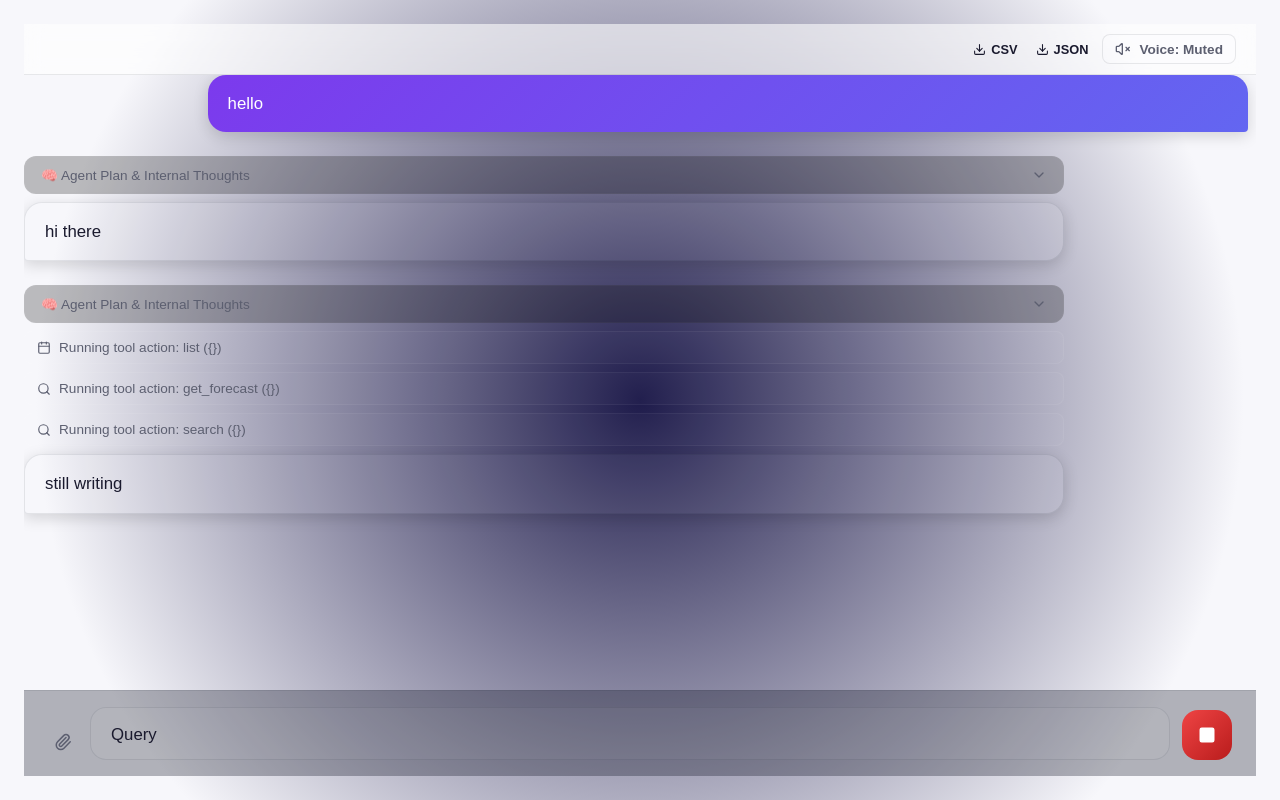
Test case: ChatPane Component Tests › renders streaming state with tool logs
# Click thoughts header to expand them since thoughts start collapsed
Click the 2nd text "🧠 Agent Plan & Internal Thoughts" at point(145, 304), box [41,296,250,312]
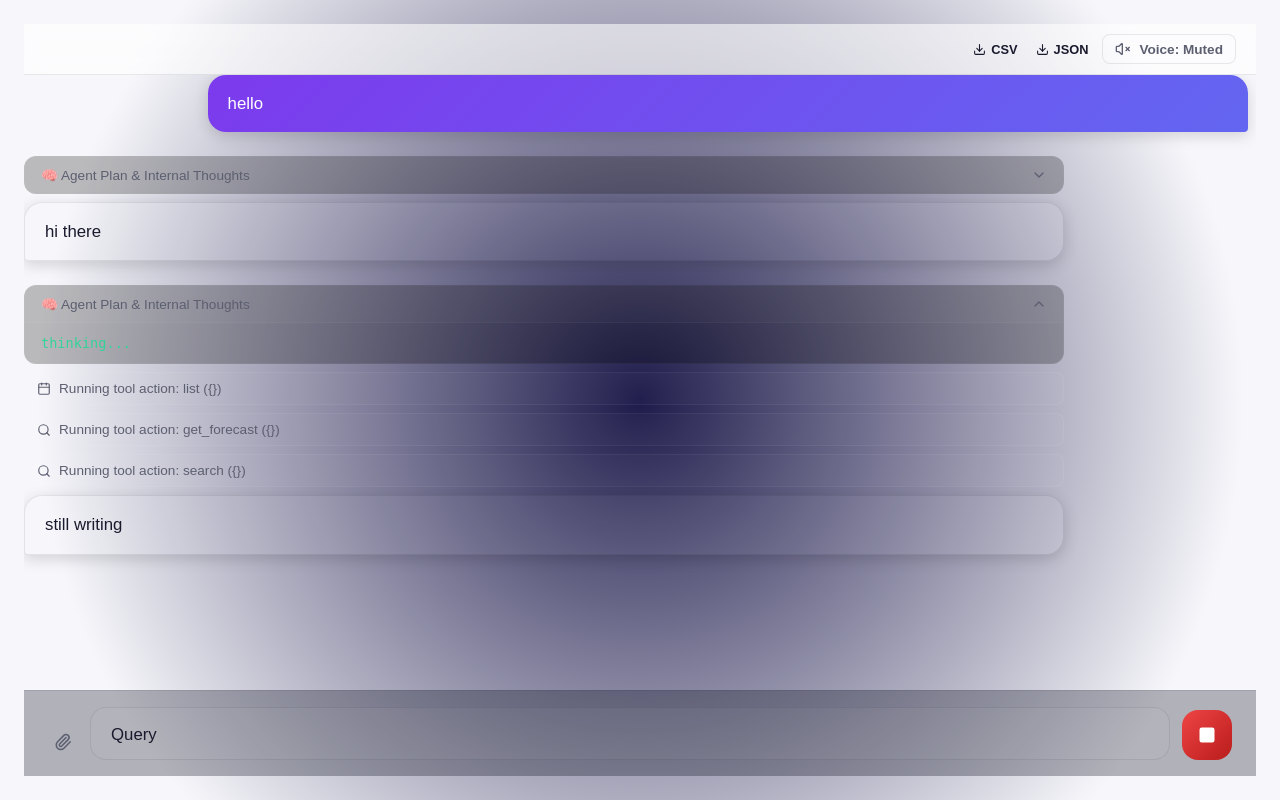
expect the text "still writing" is shown: met, box [45,515,122,534]
expect the text "thinking..." is shown: met, box [25,322,1063,363]
